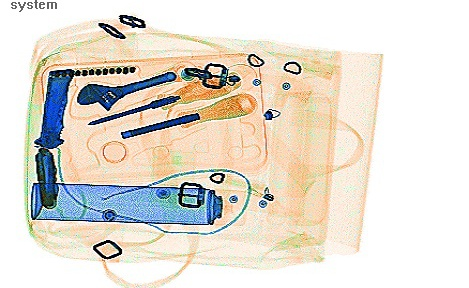knife: (32, 67, 73, 150), (32, 146, 60, 209)
pressure: (29, 181, 249, 226)
